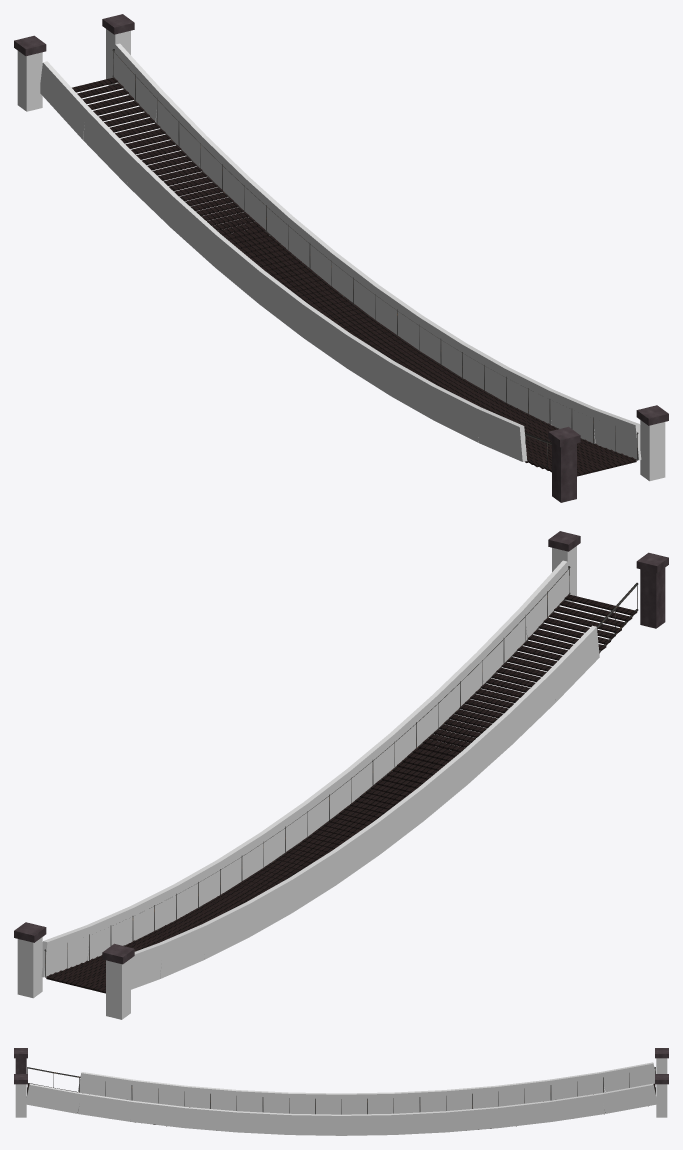
File: chain_bridge_dark.glb
3 renders of one model, top to bottom at view 1: azimuth 30°, elevation 25°; view 2: azimuth 150°, elevation 25°; view 3: azimuth 270°, elevation 25°, orthographic. The views are drawn at different scales.
Parts seen in each view (by area): view 1: Planks, Anchors, Rail-convcolonly.001, Rail-convcolonly.011, Rail-convcolonly.023, Rail-convcolonly.010, Rail-convcolonly.022, Rail-convcolonly.009, Rail-convcolonly.012, Rail-convcolonly.021, Rail-convcolonly.008, Rail-convcolonly.020 (+16 smaller); view 2: Planks, Anchors, Chains, Rail-convcolonly.012, Rail-convcolonly.001, Rail-convcolonly.013, Rail-convcolonly.002, Rail-convcolonly.014, Rail-convcolonly.023, Rail-convcolonly.003, Rail-convcolonly.015, Rail-convcolonly.004 (+16 smaller); view 3: Rail-convcolonly.013, Rail-convcolonly.012, Rail-convcolonly.020, Rail-convcolonly.023, Rail-convcolonly.022, Rail-convcolonly.015, Rail-convcolonly.017, Rail-convcolonly.021, Rail-convcolonly.006, Rail-convcolonly.014, Rail-convcolonly.005, Rail-convcolonly.018 (+16 smaller).
Part boxes in pixels (left/top/right/bottom): Planks: left=72, top=77, right=636, bottom=476; Anchors: left=14, top=14, right=668, bottom=502; Rail-convcolonly.001: left=476, top=407, right=527, bottom=461; Rail-convcolonly.011: left=40, top=61, right=90, bottom=139; Rail-convcolonly.023: left=112, top=43, right=162, bottom=121; Rail-convcolonly.010: left=83, top=109, right=133, bottom=184; Rail-convcolonly.022: left=155, top=91, right=206, bottom=167; Rail-convcolonly.009: left=127, top=153, right=176, bottom=227; Rail-convcolonly.012: left=592, top=408, right=641, bottom=460; Rail-convcolonly.021: left=199, top=136, right=249, bottom=209; Rail-convcolonly.008: left=171, top=195, right=220, bottom=266; Rail-convcolonly.020: left=243, top=177, right=292, bottom=249; Planks: left=46, top=594, right=637, bottom=993; Anchors: left=14, top=531, right=668, bottom=964; Chains: left=44, top=566, right=638, bottom=977; Rail-convcolonly.012: left=520, top=560, right=570, bottom=638; Rail-convcolonly.001: left=549, top=625, right=599, bottom=701; Rail-convcolonly.013: left=476, top=608, right=527, bottom=684; Rail-convcolonly.002: left=506, top=670, right=555, bottom=744; Rail-convcolonly.014: left=433, top=653, right=483, bottom=726; Rail-convcolonly.023: left=41, top=925, right=90, bottom=977; Rail-convcolonly.003: left=462, top=712, right=511, bottom=783; Rail-convcolonly.015: left=390, top=694, right=439, bottom=766; Rail-convcolonly.004: left=419, top=751, right=467, bottom=820; Rail-convcolonly.013: left=78, top=1093, right=133, bottom=1121; Rail-convcolonly.012: left=26, top=1083, right=81, bottom=1113; Rail-convcolonly.020: left=445, top=1107, right=499, bottom=1132; Rail-convcolonly.023: left=601, top=1083, right=656, bottom=1113; Rail-convcolonly.022: left=549, top=1093, right=604, bottom=1121; Rail-convcolonly.015: left=183, top=1107, right=237, bottom=1132; Rail-convcolonly.017: left=288, top=1113, right=341, bottom=1135; Rail-convcolonly.021: left=497, top=1101, right=552, bottom=1127; Rail-convcolonly.006: left=341, top=1092, right=394, bottom=1114; Rail-convcolonly.014: left=130, top=1101, right=185, bottom=1127; Rail-convcolonly.005: left=288, top=1092, right=341, bottom=1114; Rail-convcolonly.018: left=341, top=1113, right=394, bottom=1135.
Size of what is drawn, in the model's own units: 4.8 by 4.33 by 41.7.
3 materials, 3 textured.
